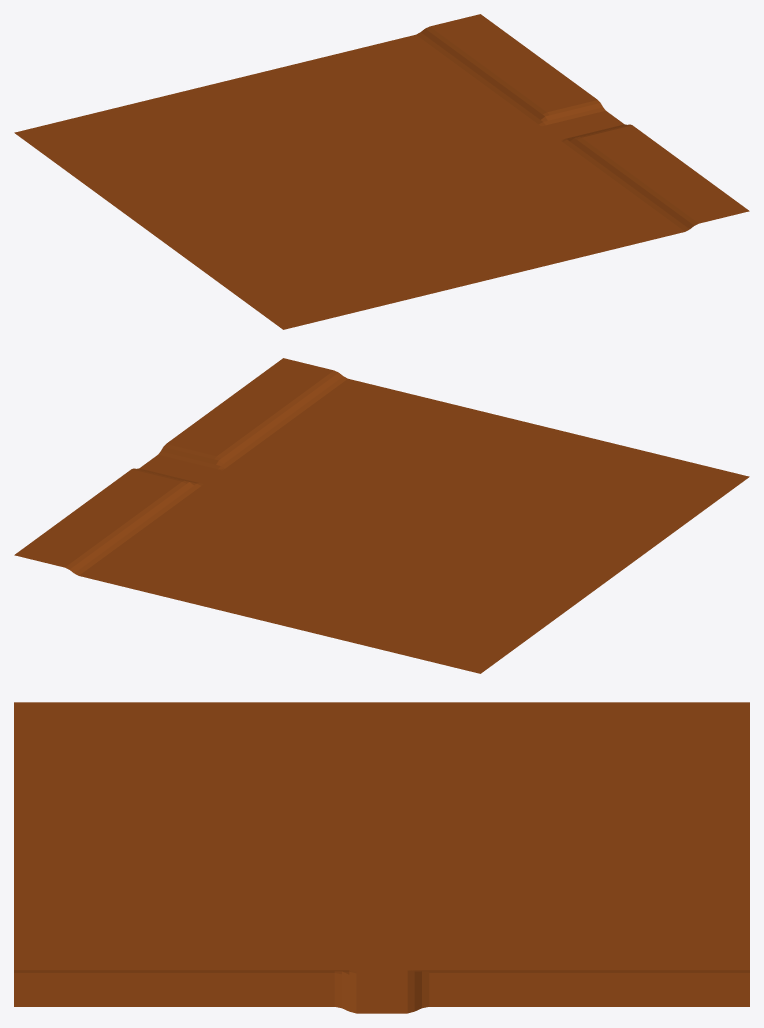
Rendered from Terrain_Part_Plane_16.glb.
The picture shows the model from 3 angles, top to bottom: view 1: azimuth 30°, elevation 25°; view 2: azimuth 150°, elevation 25°; view 3: azimuth 270°, elevation 25°; orthographic projection. The views are drawn at different scales.
Visible parts, largest first — view 1: Terrain_Part_Plane_16.001; view 2: Terrain_Part_Plane_16.001; view 3: Terrain_Part_Plane_16.001.
Part boxes in pixels (left/top/right/bottom): Terrain_Part_Plane_16.001: left=14, top=14, right=749, bottom=329; Terrain_Part_Plane_16.001: left=14, top=358, right=749, bottom=673; Terrain_Part_Plane_16.001: left=14, top=702, right=749, bottom=1013.
Bounding box in the file's own units: 20 × 0.2 × 20.
